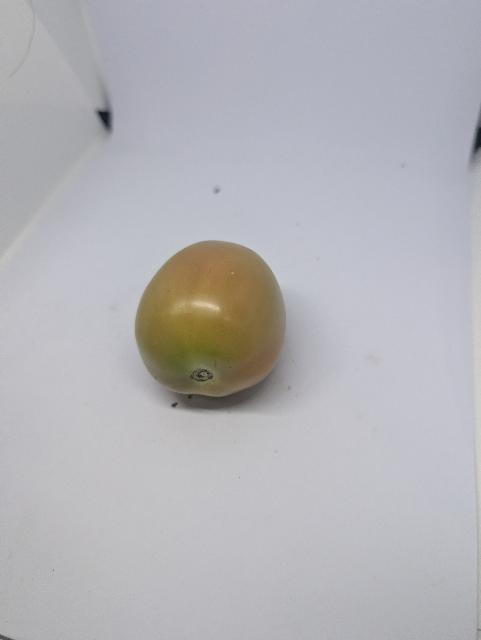breaker: (135, 241, 286, 397)
